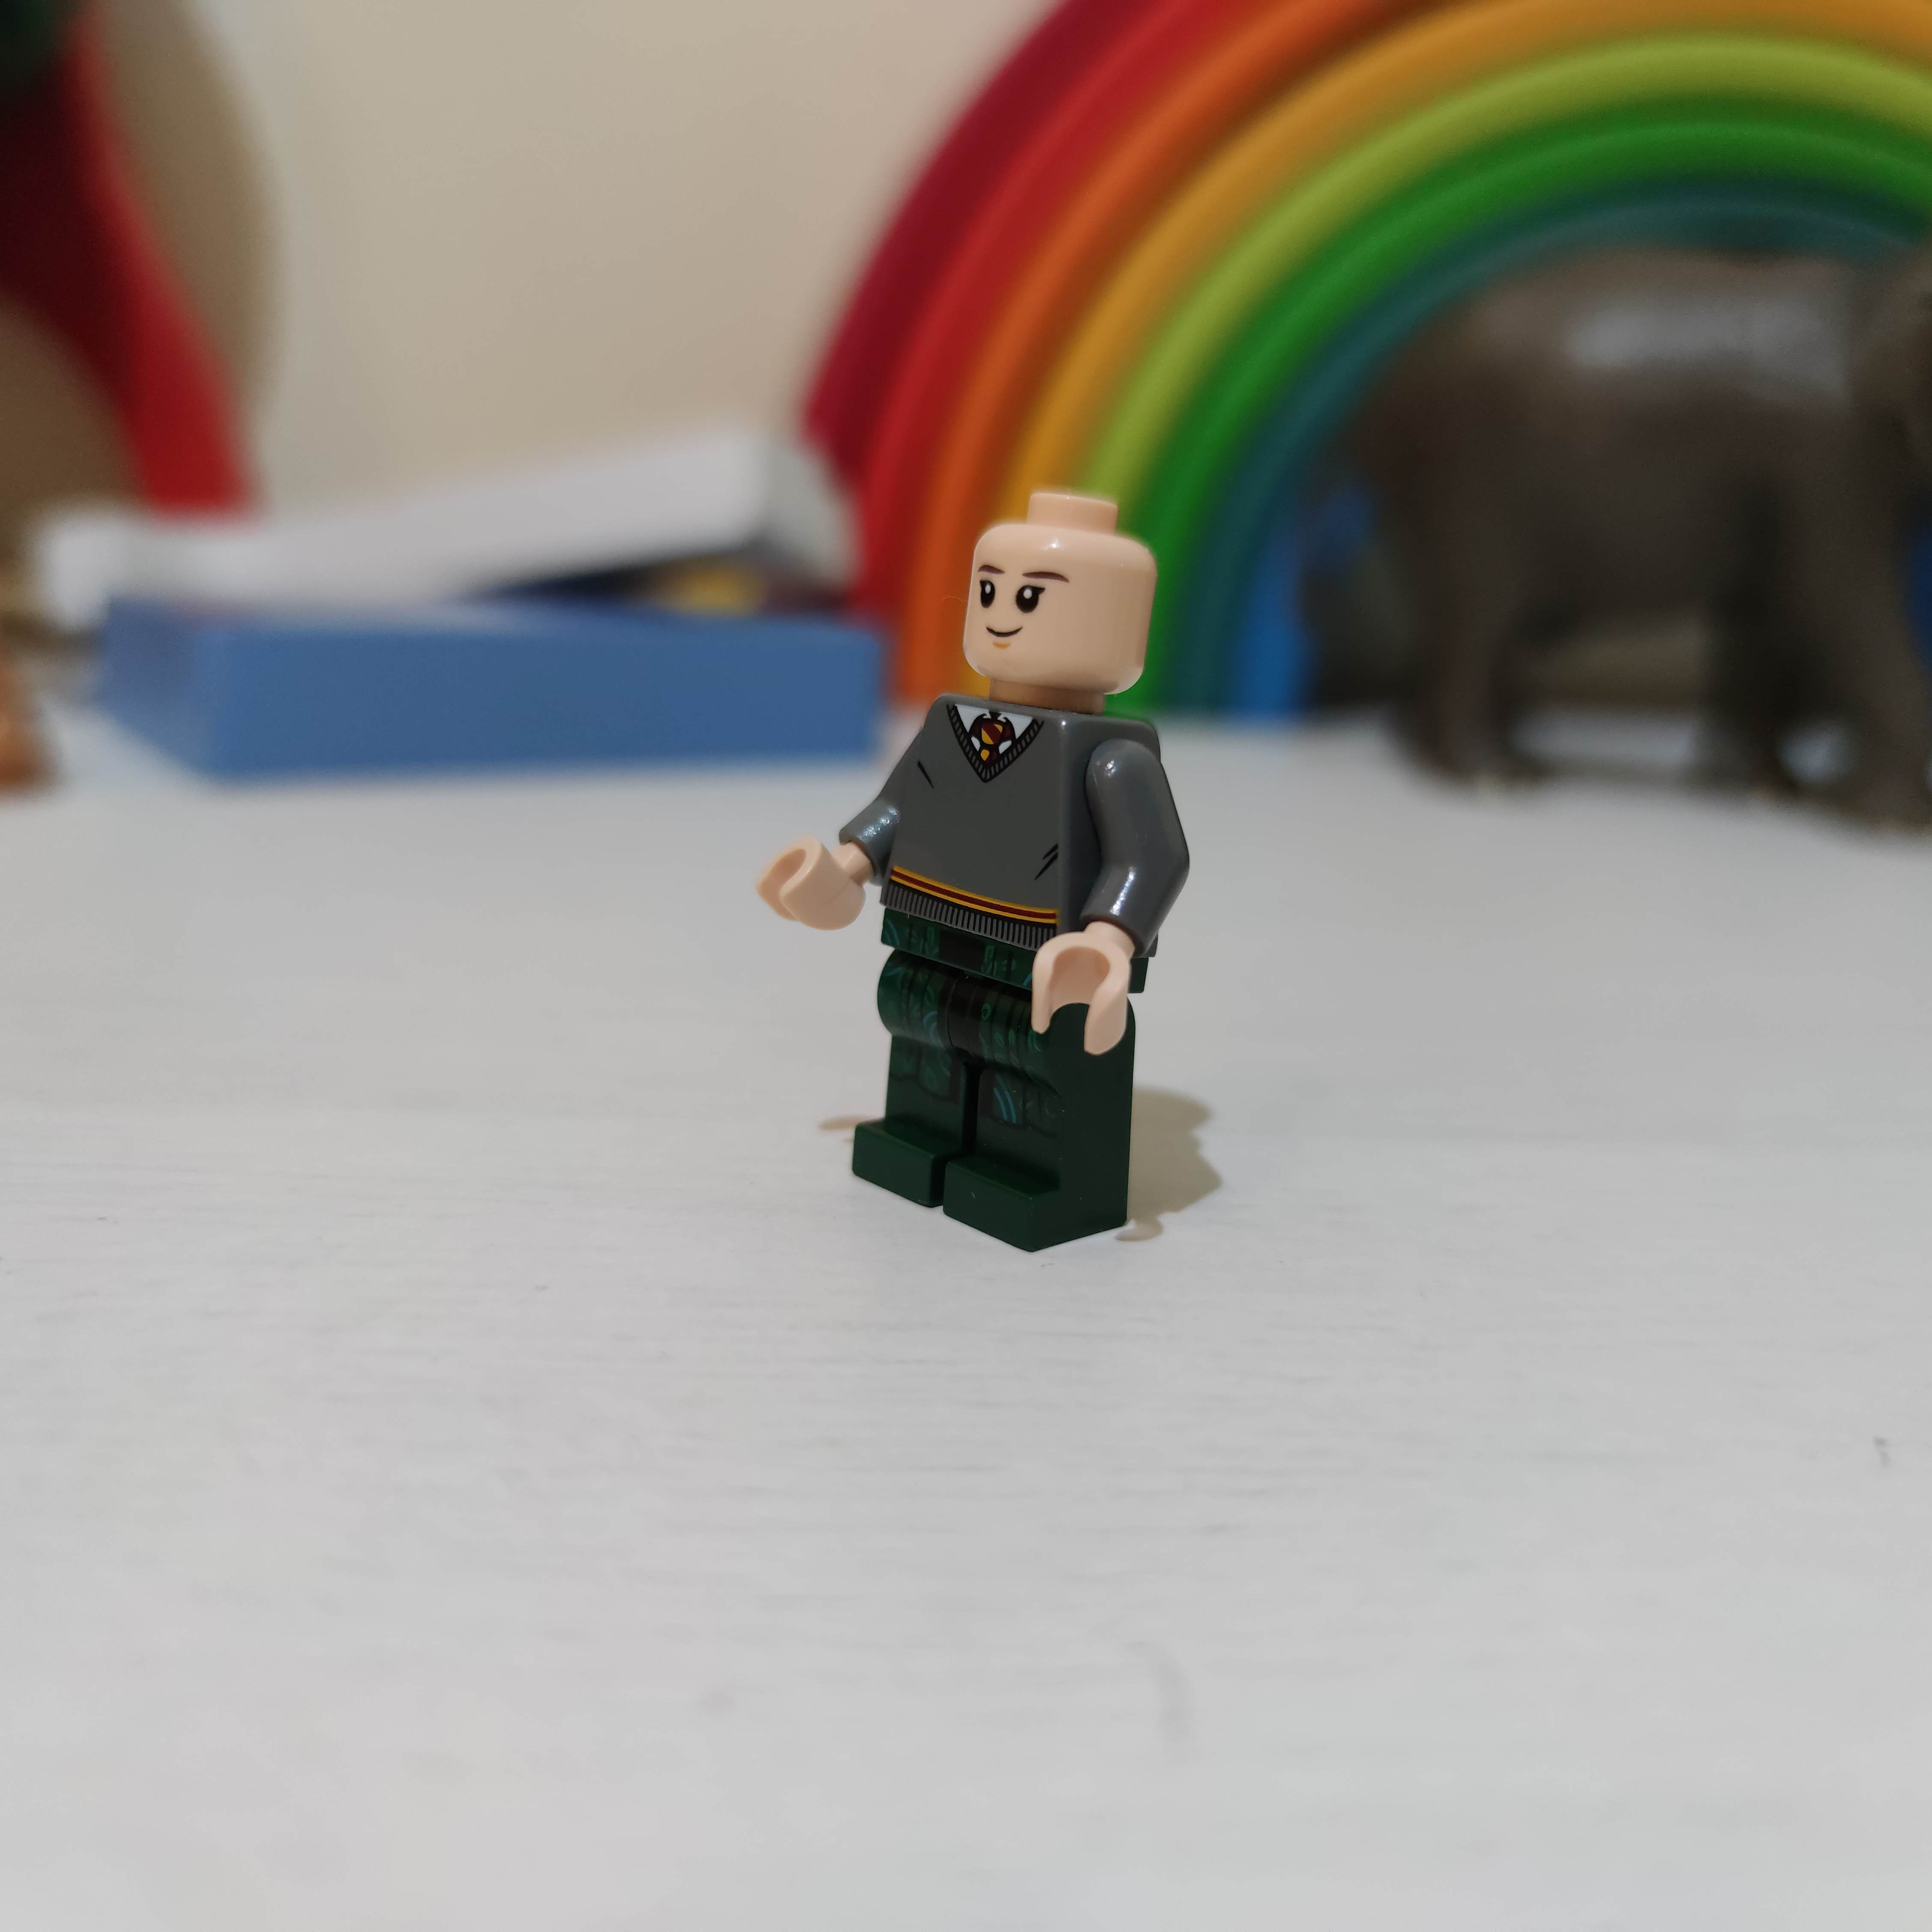lego: (763, 485, 1194, 1261)
